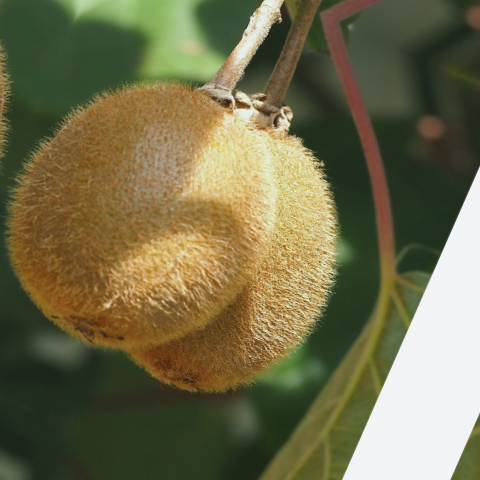kiwi: (0, 17, 323, 415)
